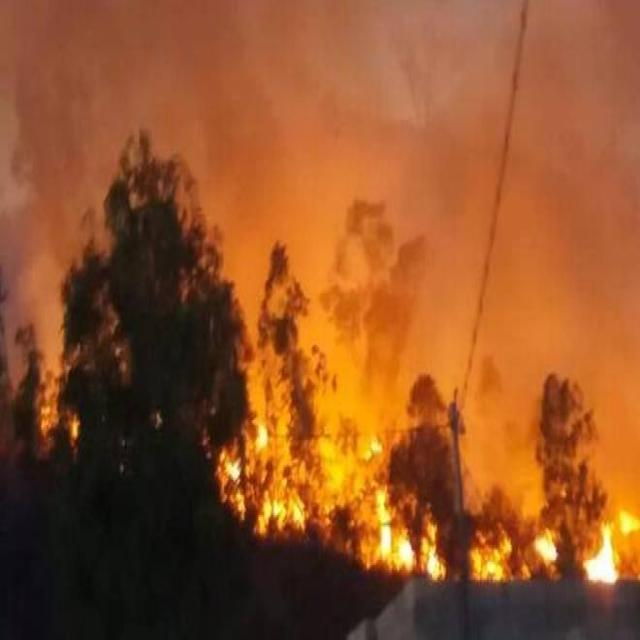Fire: (375, 507, 445, 586), (587, 540, 619, 594)
Smoke: (245, 4, 640, 387), (5, 0, 104, 270), (105, 0, 244, 162)
